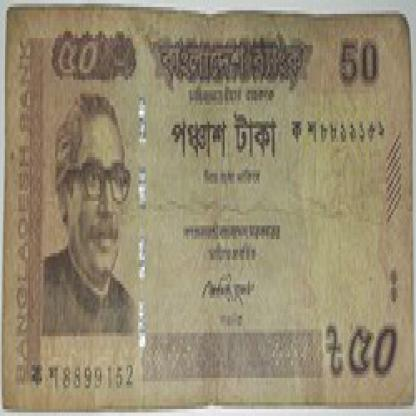Fifty taka: (321, 315, 408, 406), (52, 24, 108, 104)
